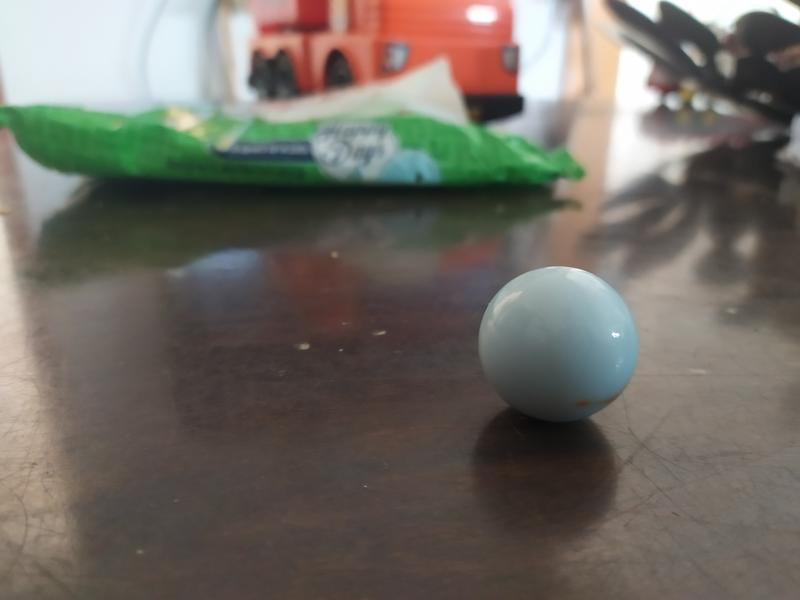Warning: (473, 259, 645, 428)
